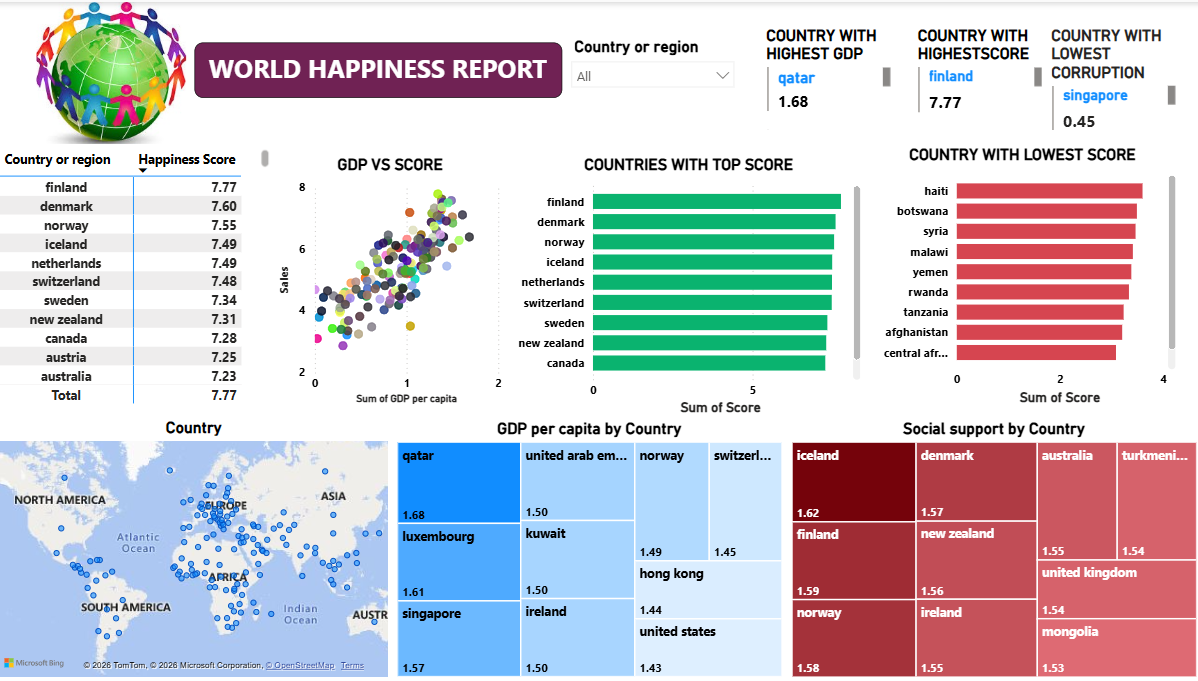

The dashboard page shown, as its layout file describes it:
{"tool":"powerbi","page":{"name":"Page 1","canvas":[1280,720],"ordinal":0},"visuals":[{"type":"textbox","box":[10,0,280,280],"z":0},{"type":"image","box":[0,0,246.5,151.1],"z":1000},{"type":"pivotTable","fields":{"Rows":["Happiness Score Data.Country or region"],"Values":["Max(Happiness Score Data.Score)"]},"box":[0,151.1,295.9,279.9],"z":2000},{"type":"scatterChart","title":"GDP VS SCORE","fields":{"X":["Sum(Happiness Score Data.GDP per capita)"],"Y":["Sum(Happiness Score Data.Score)"],"Series":["Happiness Score Data.Country or region"]},"box":[295.9,162.2,246.5,268.8],"z":3000},{"type":"clusteredBarChart","title":"COUNTRIES WITH TOP SCORE","fields":{"Category":["Happiness Score Data.Country or region"],"Y":["Sum(Happiness Score Data.Score)"]},"box":[548.8,162.2,373.8,279.9],"z":4000},{"type":"clusteredBarChart","title":"COUNTRY WITH LOWEST SCORE","fields":{"Category":["Happiness Score Data.Country or region"],"Y":["Sum(Happiness Score Data.Score)"]},"box":[922.6,151.1,334,279.9],"z":5000},{"type":"map","title":"Country","fields":{"Category":["Happiness Score Data.Country or region"]},"box":[0,440.6,421.5,279.9],"z":6000},{"type":"treemap","title":" GDP per capita by Country","fields":{"Group":["Happiness Score Data.Country or region"],"Values":["Sum(Happiness Score Data.GDP per capita)"]},"box":[421.4,442.2,417.6,277.8],"z":7000},{"type":"treemap","title":"Social support by Country","fields":{"Values":["Sum(Happiness Score Data.Social support)"],"Group":["Happiness Score Data.Country or region"]},"box":[839.8,442.2,439,278.4],"z":8000},{"type":"slicer","fields":{"Values":["Happiness Score Data.Country or region"]},"box":[601.3,31.8,192.5,95.4],"z":9000},{"type":"multiRowCard","title":"COUNTRY WITH HIGHEST GDP","fields":{"Values":["Sum(Happiness Score Data.GDP per capita)","Happiness Score Data.Country or region"]},"box":[812.8,25.4,141.6,114.5],"z":10000},{"type":"multiRowCard","title":"COUNTRY WITH HIGHESTSCORE","fields":{"Values":["Max(Happiness Score Data.Score)","Happiness Score Data.Country or region"]},"box":[973.5,25.4,141.6,114.5],"z":11000},{"type":"multiRowCard","title":"COUNTRY WITH LOWEST CORRUPTION","fields":{"Values":["Max(Happiness Score Data.Perceptions of corruption)","Happiness Score Data.Country or region"]},"box":[1115,25.4,141.6,114.5],"z":12000},{"type":"textbox","box":[211.6,42.9,389.7,58.9],"z":13000}]}

Visuals, with their boxes in screenshot pixels (x1, y1, x2, y2), scaled from the page's 1280x720 canvas onto the 1198x681 screenshot:
textbox: x1=9 y1=0 x2=271 y2=265
image: x1=0 y1=0 x2=231 y2=143
pivotTable - Happiness Score Data.Country or region x Max(Happiness Score Data.Score): x1=0 y1=143 x2=277 y2=408
"GDP VS SCORE" scatterChart: x1=277 y1=153 x2=508 y2=408
"COUNTRIES WITH TOP SCORE" clusteredBarChart: x1=514 y1=153 x2=863 y2=418
"COUNTRY WITH LOWEST SCORE" clusteredBarChart: x1=863 y1=143 x2=1176 y2=408
"Country" map: x1=0 y1=417 x2=394 y2=680
" GDP per capita by Country" treemap: x1=394 y1=418 x2=785 y2=680
"Social support by Country" treemap: x1=786 y1=418 x2=1197 y2=680
slicer - Happiness Score Data.Country or region: x1=563 y1=30 x2=743 y2=120
"COUNTRY WITH HIGHEST GDP" multiRowCard: x1=761 y1=24 x2=893 y2=132
"COUNTRY WITH HIGHESTSCORE" multiRowCard: x1=911 y1=24 x2=1044 y2=132
"COUNTRY WITH LOWEST CORRUPTION" multiRowCard: x1=1044 y1=24 x2=1176 y2=132
textbox: x1=198 y1=41 x2=563 y2=96
